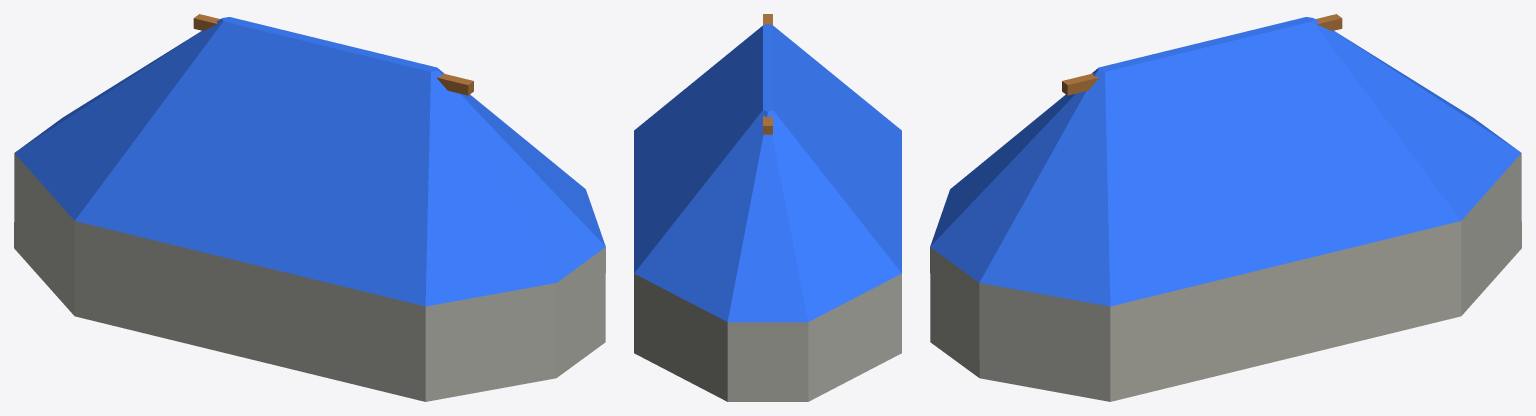
3 renders of one model, left to right at view 1: azimuth 30°, elevation 25°; view 2: azimuth 150°, elevation 25°; view 3: azimuth 270°, elevation 25°, orthographic. The views are drawn at different scales.
Parts seen in each view (by area): view 1: ZP_01; view 2: ZP_01; view 3: ZP_01.
Boxes of the visible parts, left/top/right/bottom form: ZP_01: left=14, top=14, right=605, bottom=401; ZP_01: left=634, top=14, right=901, bottom=401; ZP_01: left=930, top=14, right=1521, bottom=401.
Bounding box in the file's own units: 2.68 × 1.59 × 3.3.
